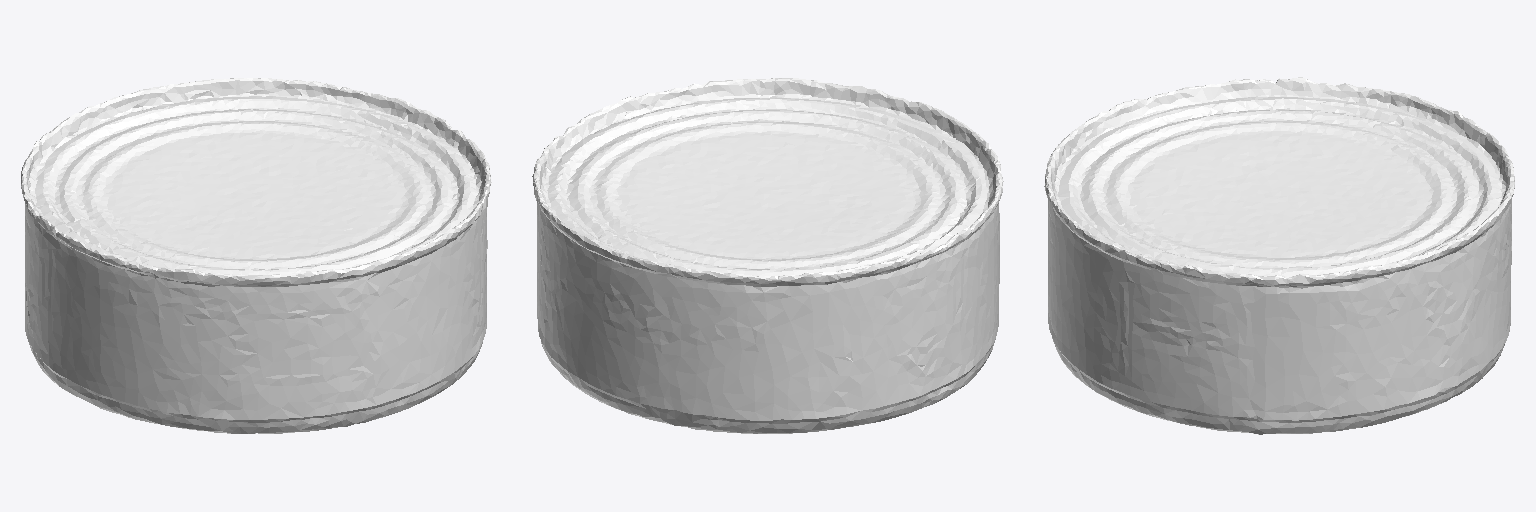
URDF robot description (007_tuna_fish_can_0):
<?xml version='1.0' encoding='utf-8'?>
<robot name="007_tuna_fish_can_0">
        <link name="link_0">
            <visual>
                <origin xyz="0.0 0.0 0.0" rpy="0.0 0.0 0.0" />
                <geometry>
                    <mesh filename="textured_objs/textured.obj" scale="1 1 1.0" />
                </geometry>
                <material name="white">
                    <color rgba="1 1 1 1" />
                </material>
            </visual>
            <collision>
                <origin xyz="0.0 0.0 0.0" rpy="0.0 0.0 0.0" />
                <geometry>
                    <mesh filename="textured_objs/textured.obj" scale="1 1 1.0" />
                </geometry>
            </collision>
            <inertial>
                <mass value="0.1" />
                <inertia ixx="0.0001" ixy="0.0" ixz="0.0" iyy="0.0001" iyz="0.0" izz="0.0001" />
            </inertial>
        </link>
    </robot>

--- Render facts (derived) ---
3 views of the same robot in one strip: view 1: azimuth 30°, elevation 25°; view 2: azimuth 150°, elevation 25°; view 3: azimuth 270°, elevation 25° (orthographic).
Model 007_tuna_fish_can_0 with 1 links and 0 joints (none), rooted at link_0, posed every joint at zero.
Links seen in each view (by area): view 1: link_0; view 2: link_0; view 3: link_0.
Link boxes in pixels (x1,y1,x2,y2): link_0: [21, 78, 491, 433]; link_0: [532, 78, 1003, 433]; link_0: [1044, 77, 1514, 434].
Size in the robot's own frame: 0.0856 by 0.0855 by 0.0335 metres.
1 mesh visuals loaded from 1 distinct referenced files (1 OBJ).